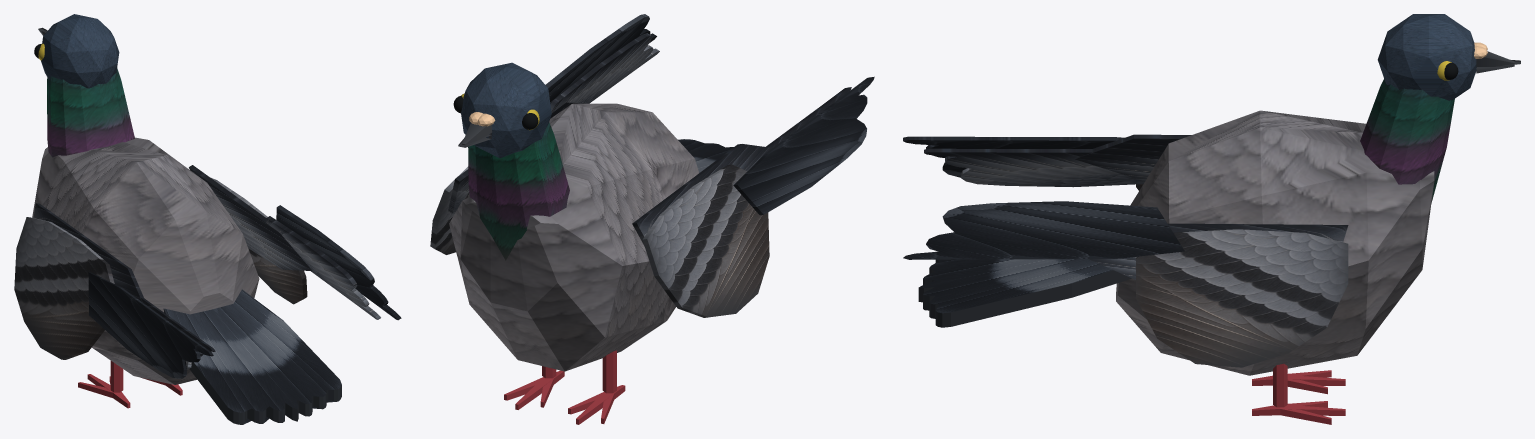
The model's file is rock_dove.glb.
3 views of the same model, side by side, from view 1: azimuth 30°, elevation 25°; view 2: azimuth 150°, elevation 25°; view 3: azimuth 270°, elevation 25° (orthographic). The views are drawn at different scales.
Visible parts, largest first — view 1: body, tail, folded_overlay, outer_folded_overlay, neck, head, inner_mesh.001, outer_folded_overlay.001, outer_mesh.001, folded_overlay.001, inner_mesh, foot (+2 smaller); view 2: body, folded_overlay, neck, outer_folded_overlay, head, outer_mesh.001, outer_folded_overlay.001, inner_mesh, folded_overlay.001, foot.001, foot, tail (+4 smaller); view 3: body, folded_overlay.001, outer_folded_overlay.001, tail, neck, head, outer_mesh, inner_mesh, outer_folded_overlay, inner_mesh.001, foot.001, foot (+1 smaller).
Boxes of the visible parts, x1,y1,x2,y2 form: body: [32, 137, 259, 384]; tail: [163, 289, 341, 424]; folded_overlay: [14, 217, 114, 359]; outer_folded_overlay: [88, 272, 213, 378]; neck: [47, 68, 134, 157]; head: [41, 14, 119, 88]; inner_mesh.001: [189, 165, 312, 270]; outer_folded_overlay.001: [276, 205, 401, 320]; outer_mesh.001: [266, 216, 380, 319]; folded_overlay.001: [210, 177, 307, 304]; inner_mesh: [33, 203, 143, 301]; foot: [78, 374, 130, 408]; body: [449, 103, 698, 371]; folded_overlay: [642, 164, 769, 317]; neck: [468, 122, 569, 260]; outer_folded_overlay: [733, 76, 874, 215]; head: [461, 62, 551, 158]; outer_mesh.001: [550, 33, 659, 112]; outer_folded_overlay.001: [545, 14, 656, 103]; inner_mesh: [632, 144, 771, 245]; folded_overlay.001: [430, 166, 468, 254]; foot.001: [504, 370, 564, 409]; foot: [568, 385, 625, 424]; tail: [678, 139, 733, 172]; body: [1116, 110, 1434, 375]; folded_overlay.001: [1136, 229, 1348, 367]; outer_folded_overlay.001: [903, 201, 1184, 259]; tail: [918, 259, 1131, 327]; neck: [1360, 79, 1454, 203]; head: [1377, 14, 1476, 100]; outer_mesh: [924, 148, 1144, 187]; inner_mesh: [1074, 134, 1191, 181]; outer_folded_overlay: [903, 136, 1124, 177]; inner_mesh.001: [1089, 223, 1348, 279]; foot.001: [1252, 401, 1345, 424]; foot: [1252, 370, 1345, 394].
Size of the model in its own units: 0.5275 by 0.6954 by 1.01.
2 materials, 2 textured.
